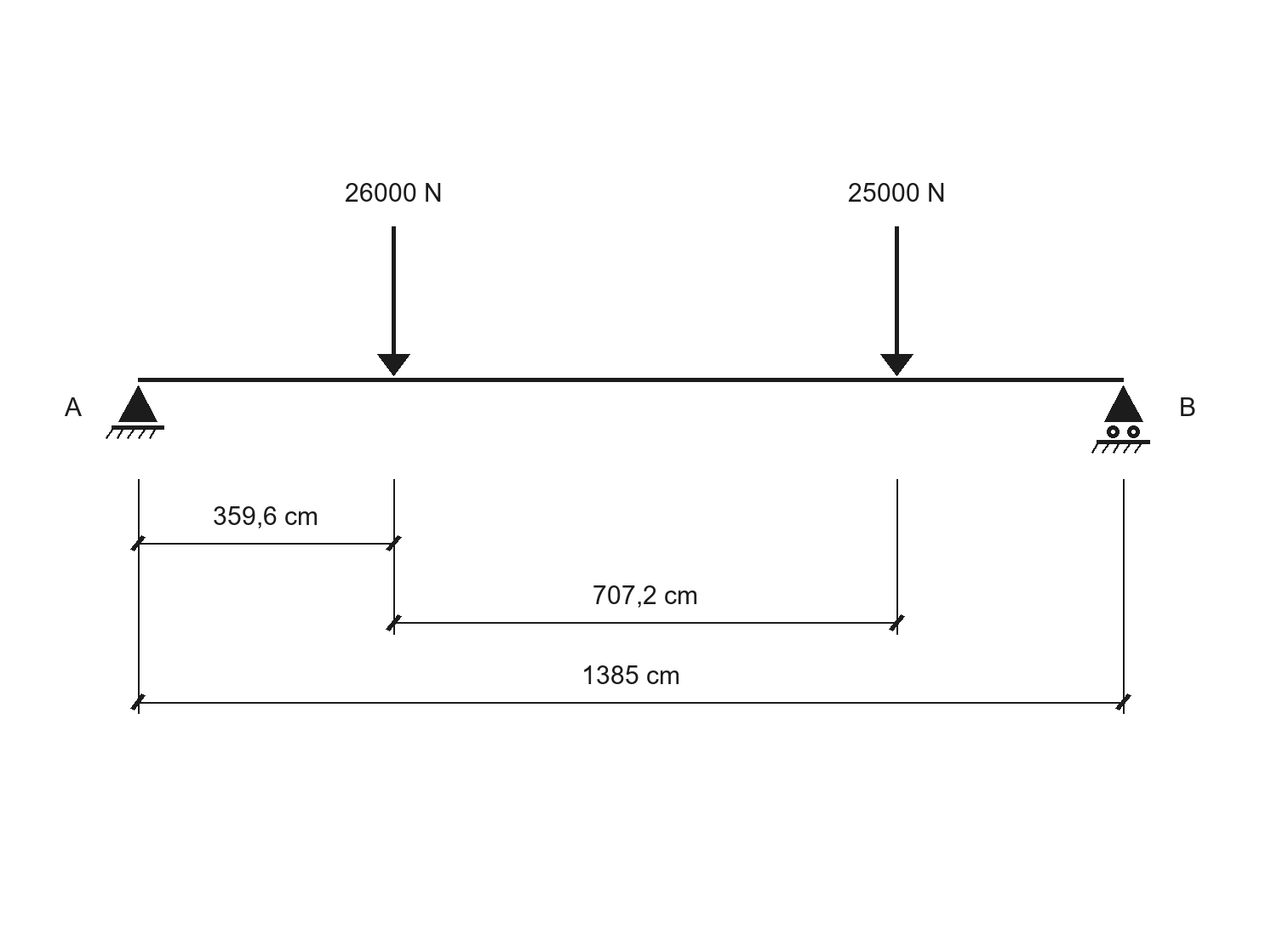pin_support: (106, 385, 164, 439)
point_load: (377, 226, 410, 376), (880, 226, 913, 376)
roller_support: (1091, 385, 1150, 454)
